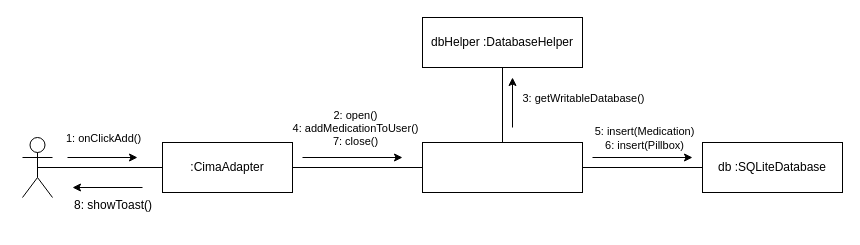
This 860x245 diagram has some shape labels left out. The centre of each missing label's shape, as x and y in pixels:
pillboxDAO :PillboxDAO: [502,167]
Usuario: [37,167]
